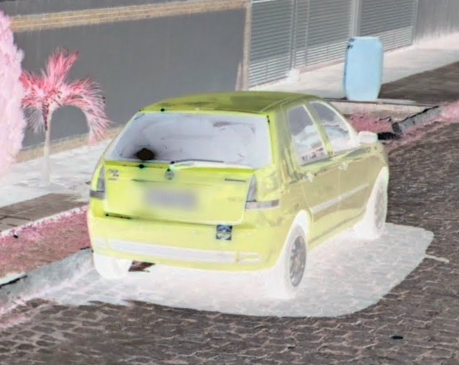car: (82, 88, 396, 302)
